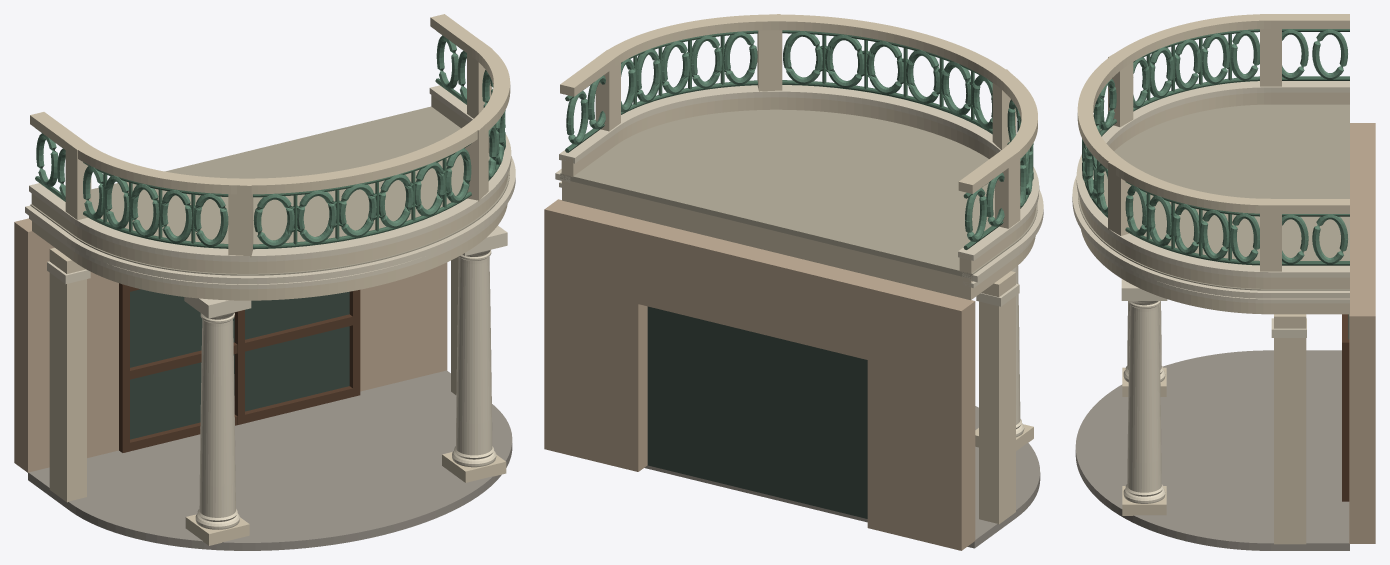
File: xuhui-wukang-2-garden-villa-curved-balcony-raw.glb
The picture shows the model from 3 angles, left to right: view 1: azimuth 30°, elevation 25°; view 2: azimuth 150°, elevation 25°; view 3: azimuth 270°, elevation 25°; orthographic projection. The views are drawn at different scales.
Parts seen in each view (by area): view 1: 武康路2号花园住宅南向弧形阳台与双柱; view 2: 武康路2号花园住宅南向弧形阳台与双柱; view 3: 武康路2号花园住宅南向弧形阳台与双柱.
Part boxes in pixels (x1=…): 武康路2号花园住宅南向弧形阳台与双柱: x1=14, y1=14, x2=515, y2=550; 武康路2号花园住宅南向弧形阳台与双柱: x1=544, y1=14, x2=1043, y2=550; 武康路2号花园住宅南向弧形阳台与双柱: x1=1072, y1=14, x2=1375, y2=550.
Size of the model in its own units: 6.18 by 5.05 by 4.03.
